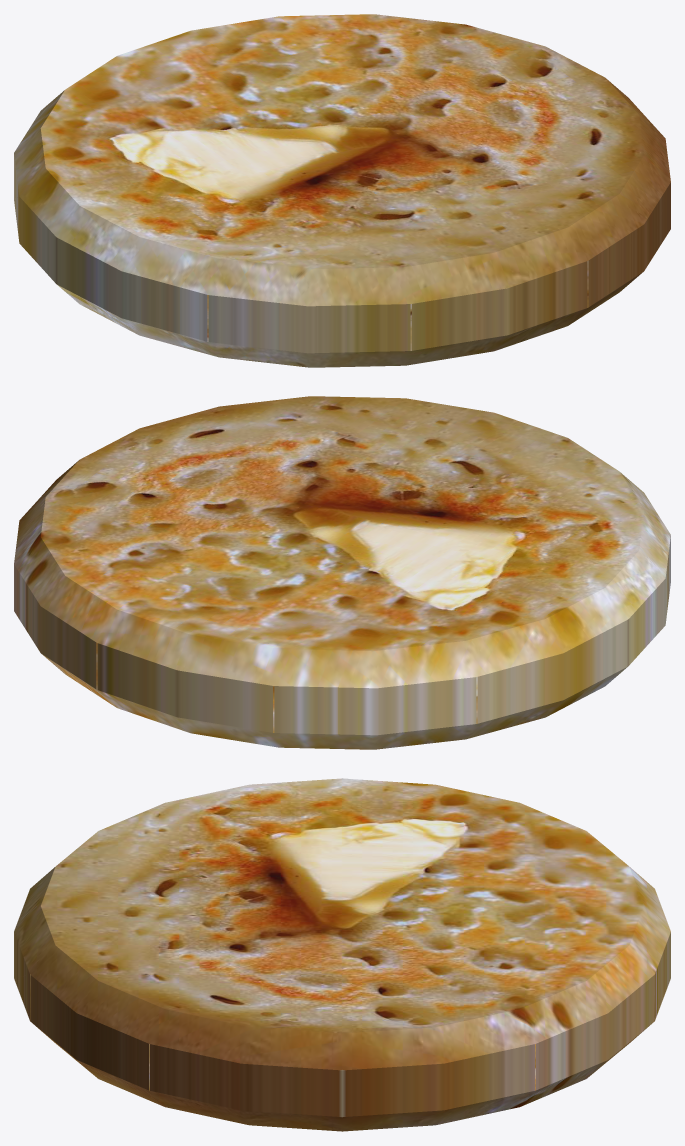
The model's file is krumpet_model.fbx.
The picture shows the model from 3 angles, top to bottom: view 1: azimuth 30°, elevation 25°; view 2: azimuth 150°, elevation 25°; view 3: azimuth 270°, elevation 25°; orthographic projection.
Visible parts, largest first — view 1: pCylinder20; view 2: pCylinder20; view 3: pCylinder20.
Part boxes in pixels (x1,y1,x2,y2): pCylinder20: (14,14,670,367); pCylinder20: (14,396,670,749); pCylinder20: (14,778,670,1131).
Size of the model in its own units: 0.0635 by 0.0105 by 0.0635.
